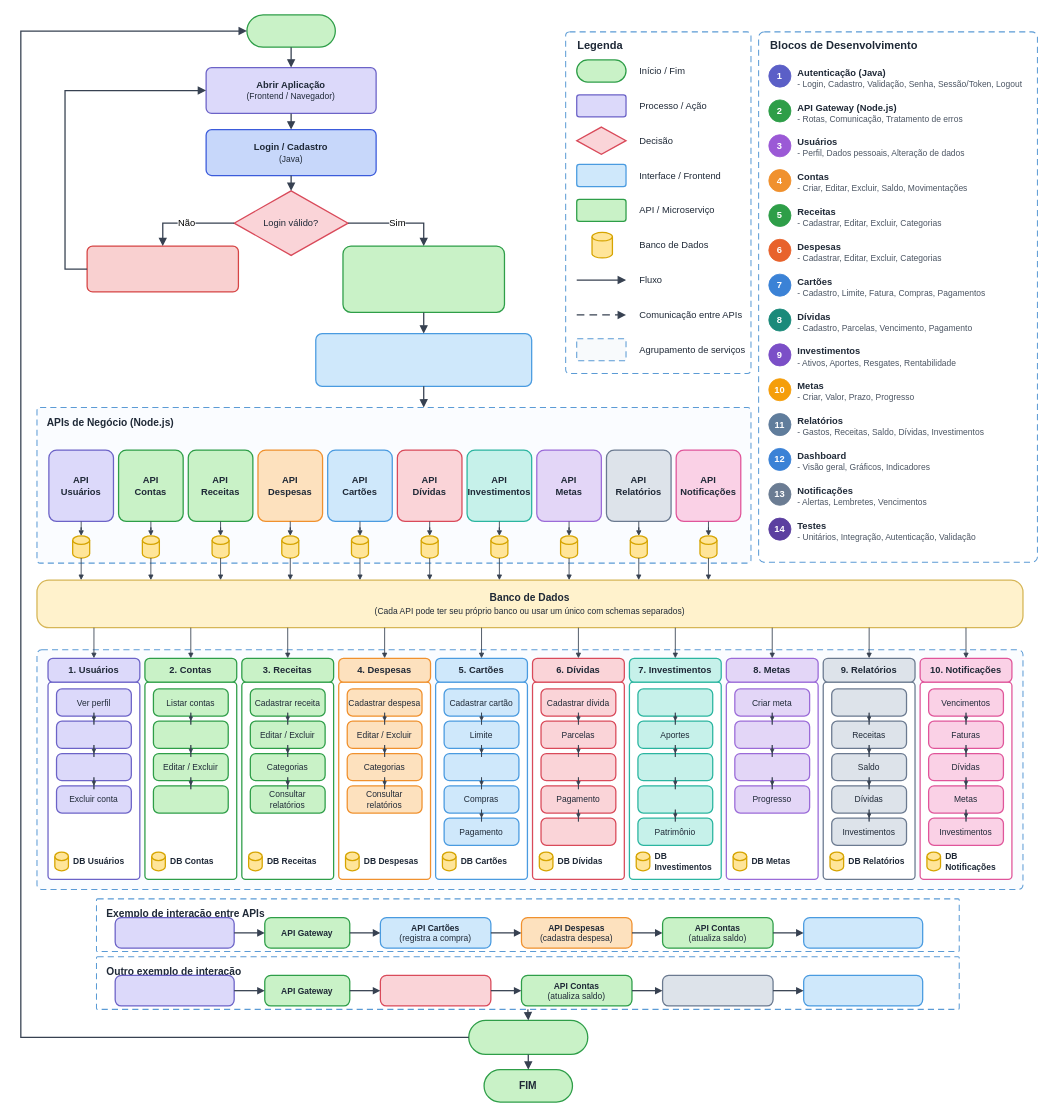
Some shapes in this 1053 by 1118 pixel diagram are drawn without their labels. Each missing label, with the centre of its shape:
Alterar senha: the point at 94,767
API Dívidas (cadastra dívida): the point at 435,990
API Gateway (Node.js) Gerencia requisições e comunicação entre APIs: the point at 423,279
API Relatórios (atualiza indicadores): the point at 717,990
Cadastrar ativo: the point at 675,702
Cadastrar conta: the point at 190,734
Dashboard (exibe atualização): the point at 863,990
Dashboard (Frontend) Menu principal da aplicação: the point at 423,360
Editar dados: the point at 94,734
Erro de Login (mensagem de erro): the point at 162,268
Fatura: the point at 481,767
Gastos: the point at 869,702
INÍCIO: the point at 291,30
Logout / Sair (encerra a sessão): the point at 528,1037
Movimentações (entrada/saída): the point at 190,799
Prazo: the point at 772,767
Rentabilidade: the point at 675,799
Resgates: the point at 675,767
Resposta para o Dashboard: the point at 863,932
Status: the point at 578,831
Usuário cadastra uma dívida: the point at 174,990
Usuário realiza uma compra no cartão: the point at 174,932
Valor objetivo: the point at 772,734
Vencimento: the point at 578,767
